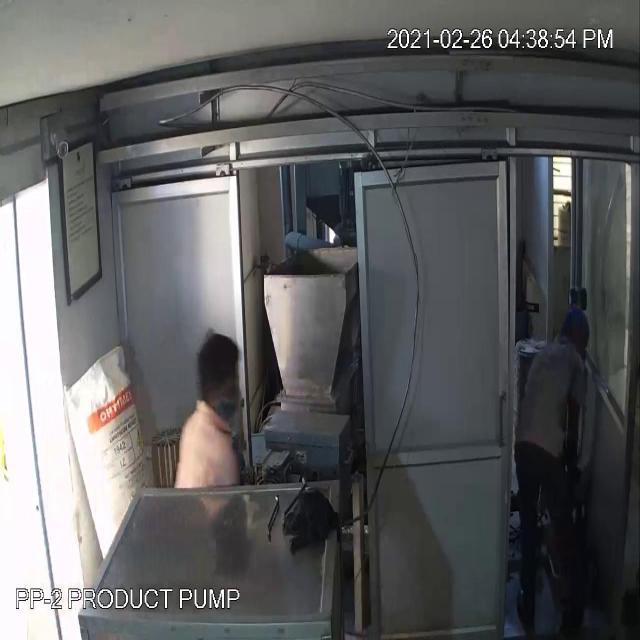no-helmet: (188, 328, 246, 404)
